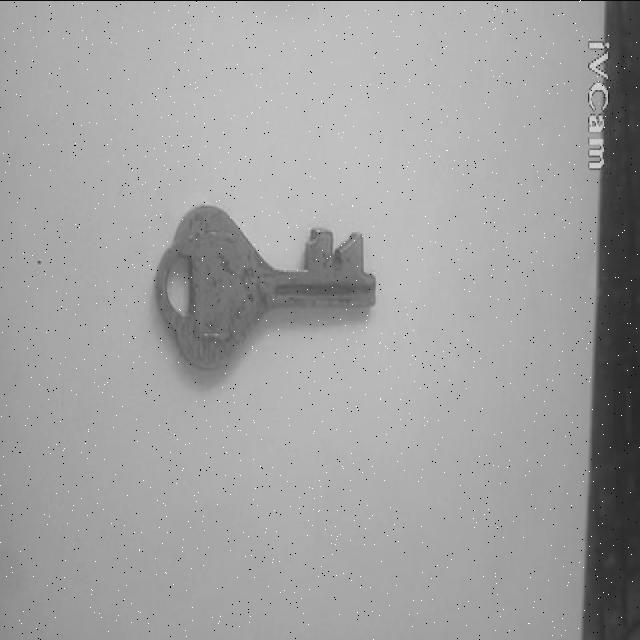key: (156, 205, 375, 367)
